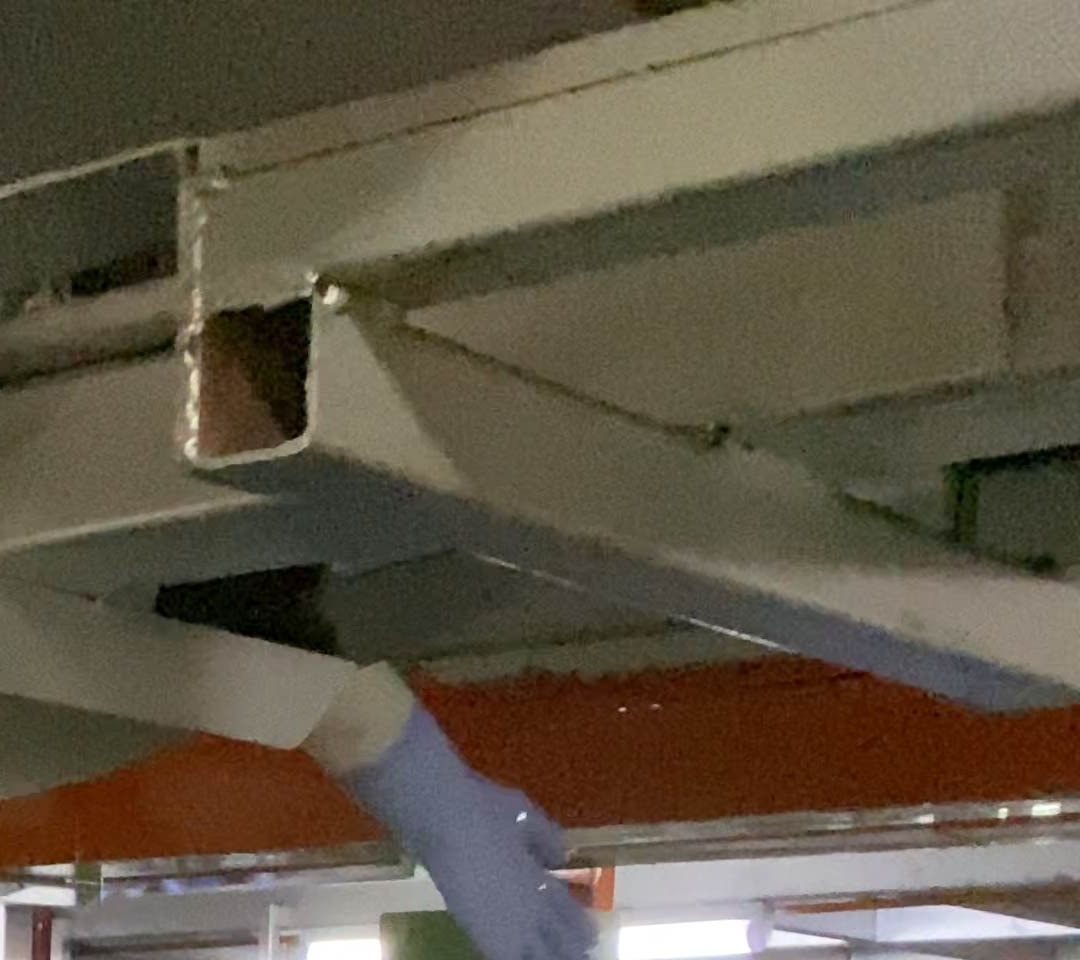glove: (338, 698, 597, 960)
